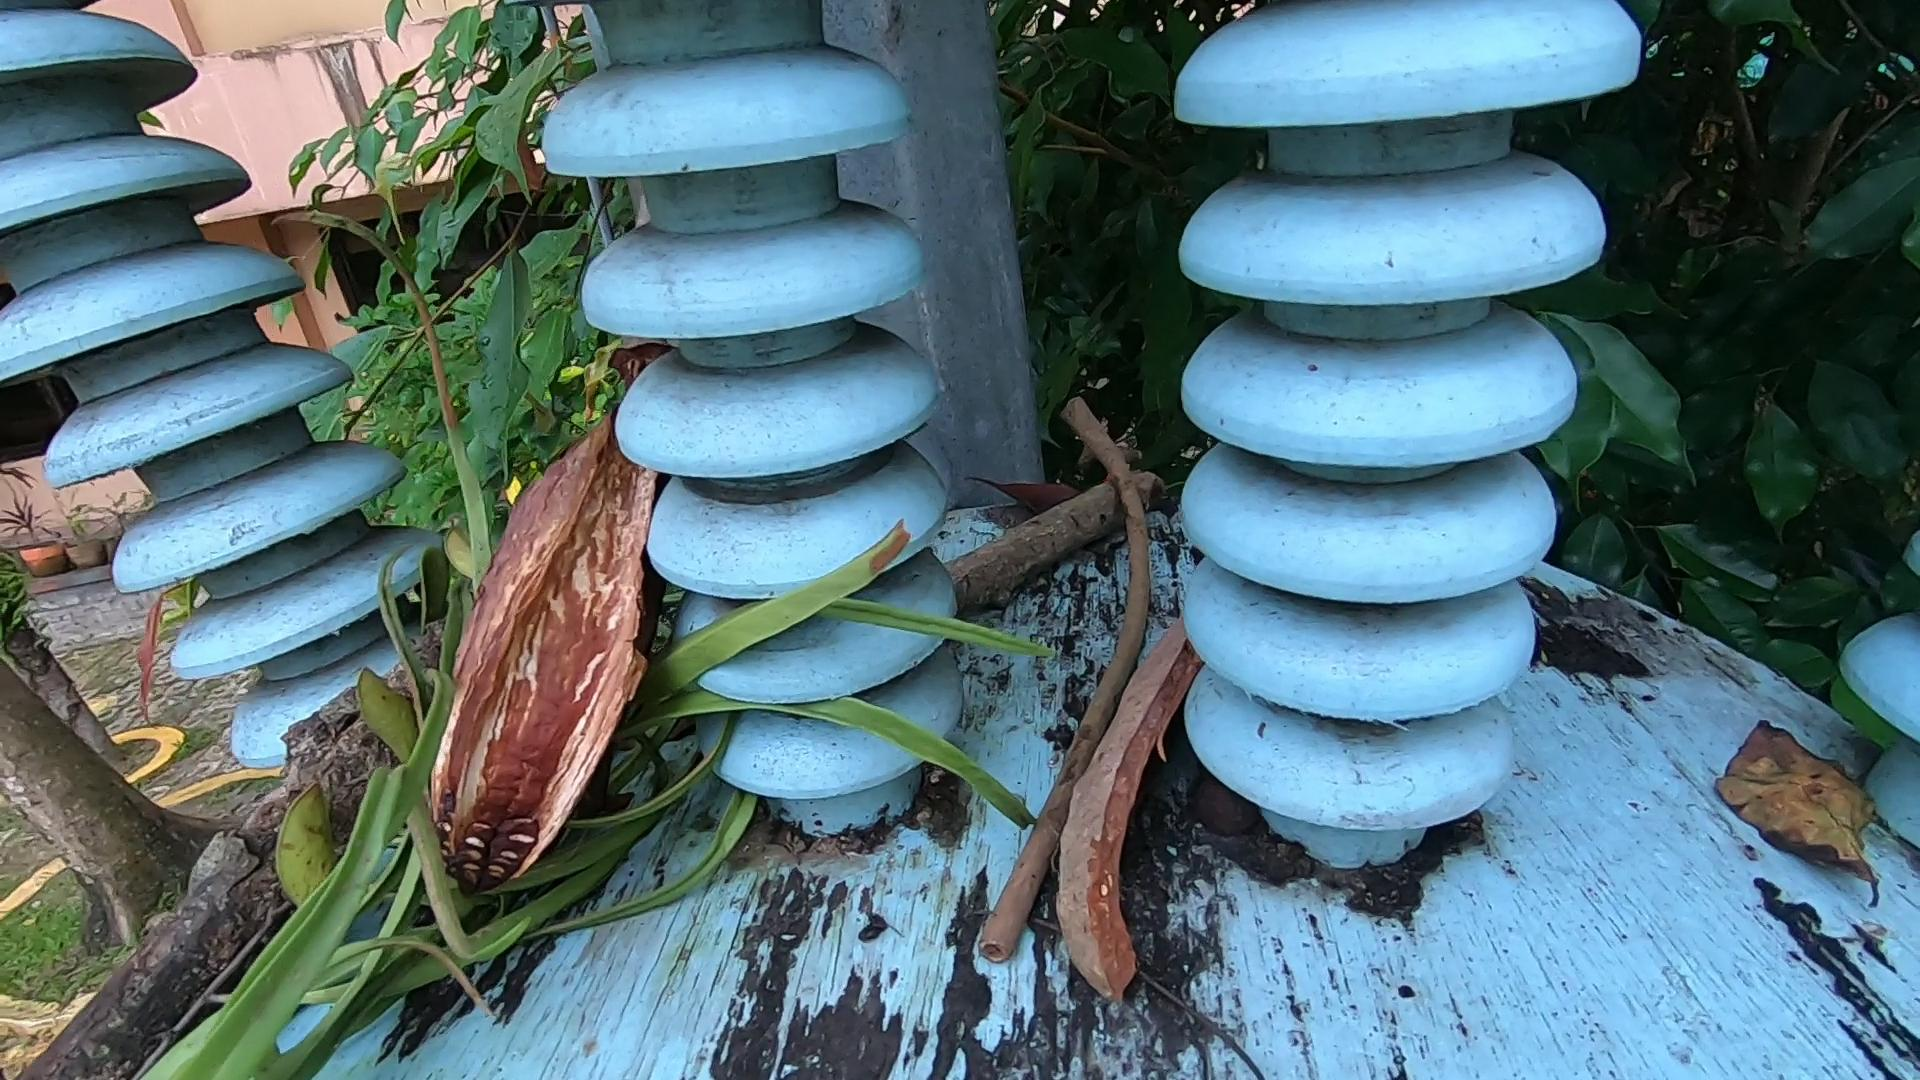branch with leaves: (15, 240, 1044, 1080)
leaf: (1712, 719, 1888, 898)
mahogany fruit: (429, 340, 699, 934), (1036, 563, 1166, 1054)
tree branch: (981, 375, 1151, 969), (935, 454, 1154, 603)
